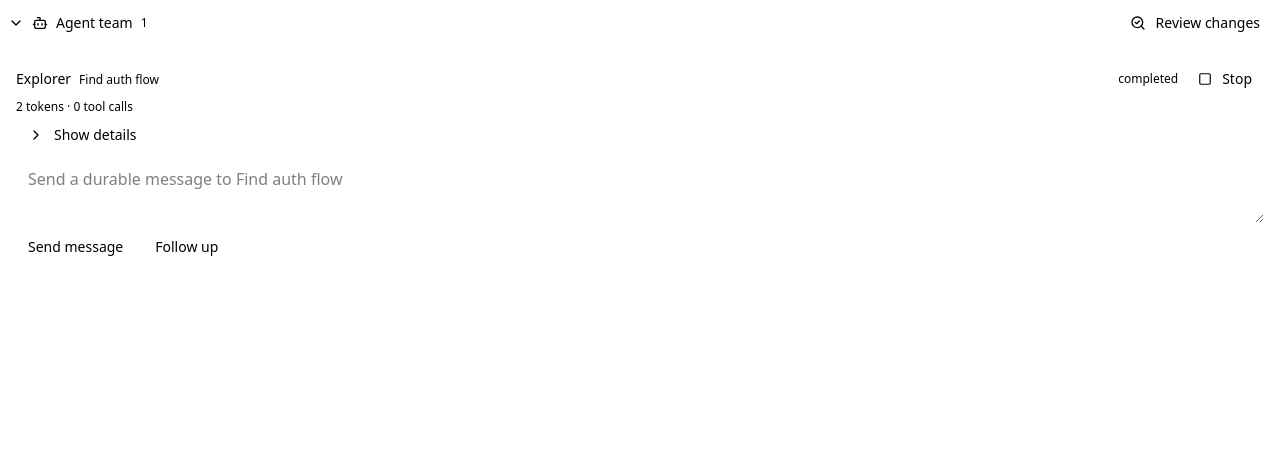
Test: SubagentTeamCard › renders Explorer reports and lazily loads the durable transcript
This screenshot has width=1280, height=449.
Expected: the text "Find auth flow" is shown, x1=79 y1=71 x2=159 y2=88
Expected: the text "exploration report" is not shown
Click the button with aria-label "Show details for explorer Find auth flow": (82, 135) x1=16 y1=119 x2=148 y2=151
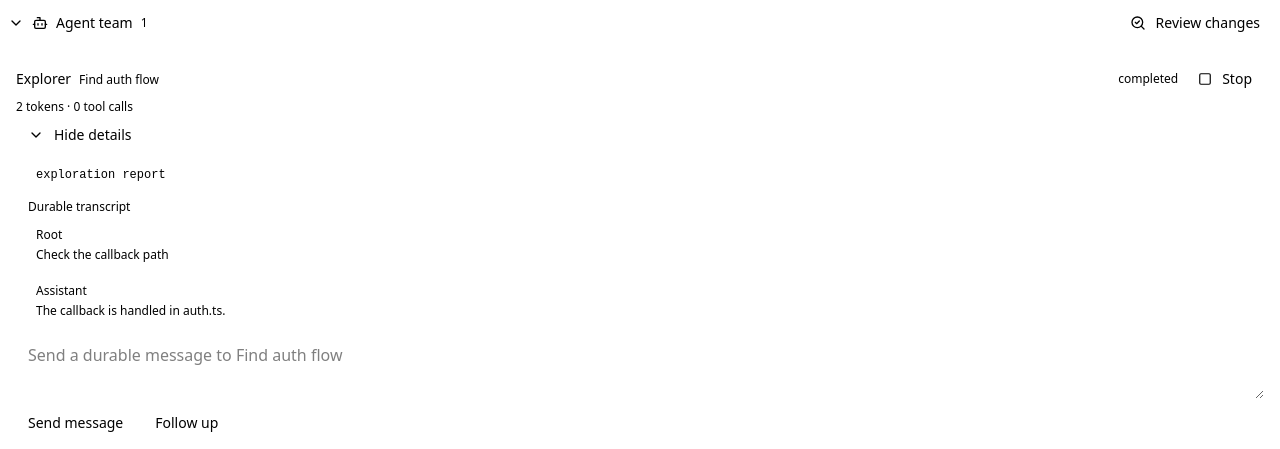
Result: the text "exploration report" is shown at x1=36 y1=168 x2=166 y2=182
Result: the text "Check the callback path" is shown at x1=36 y1=246 x2=169 y2=263
Result: the text "The callback is handled in auth.ts." is shown at x1=36 y1=302 x2=225 y2=319
